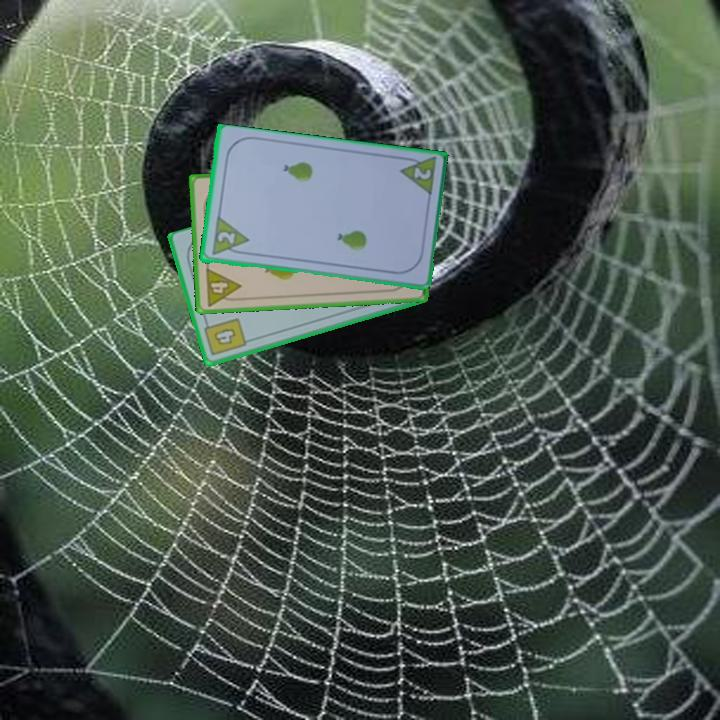2p: (213, 228, 238, 247), (410, 164, 434, 183)
4b: (201, 315, 249, 359)
4p: (202, 264, 244, 309)
